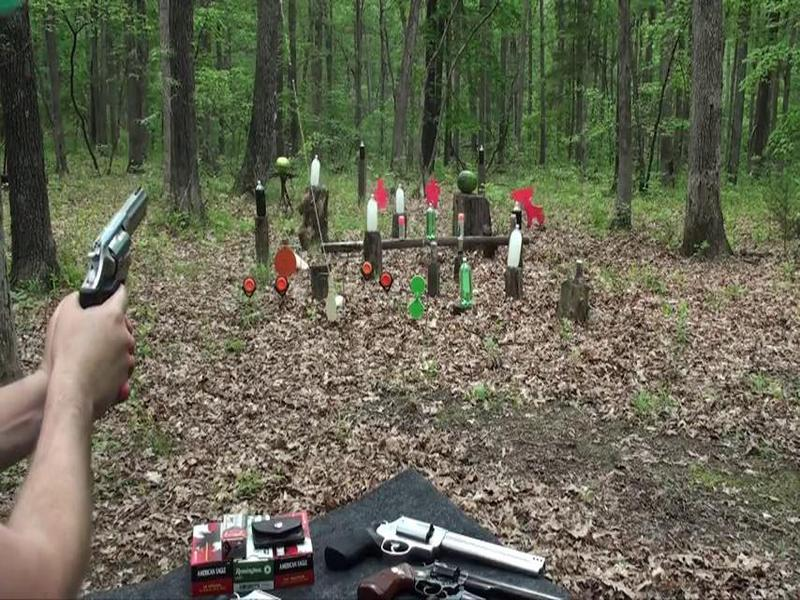Revolver: (73, 178, 167, 352)
